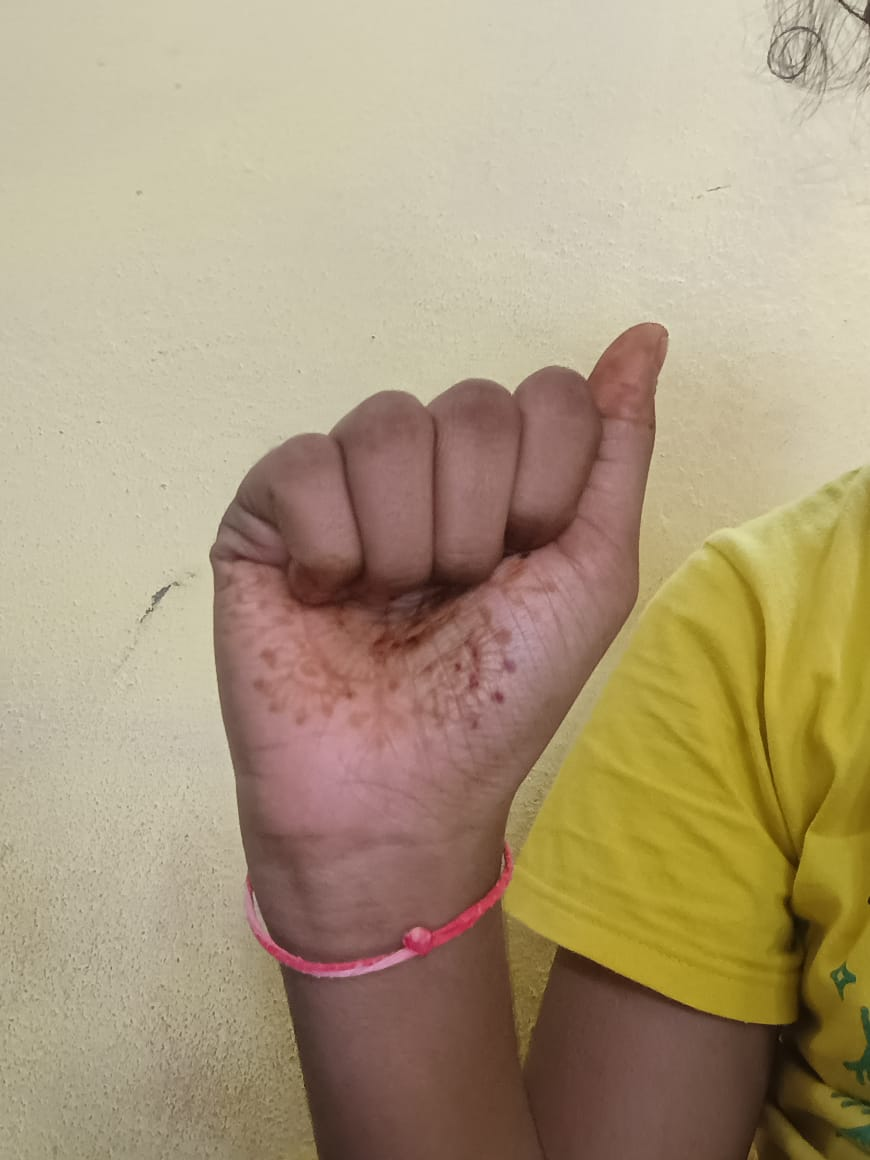A: (212, 321, 673, 809)
